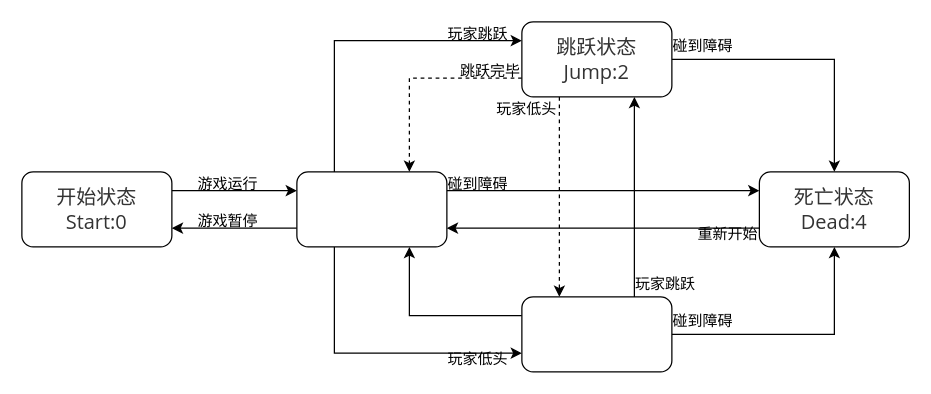
Some shapes in this 931 by 394 pixel diagram are drawn without their labels. Here are the shapes that lost their labels. From the top down, the centre of each, then its label:
point 371,209: 奔跑状态 Run:1
point 596,334: 低头状态 DownRun:3
